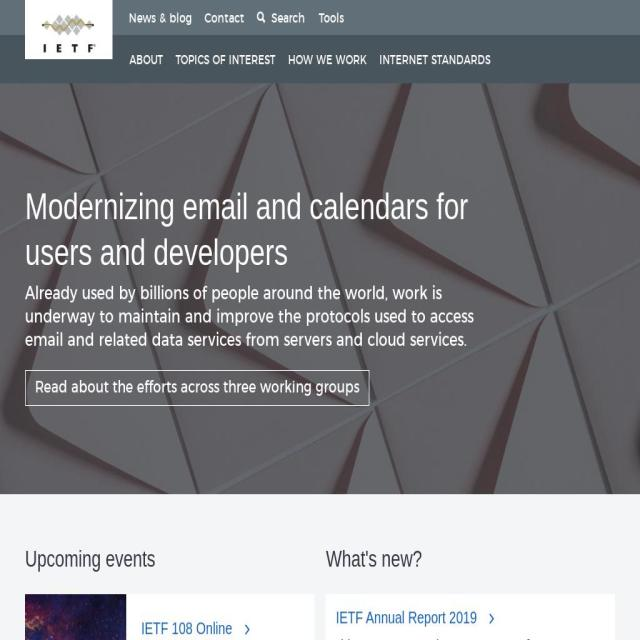button: (25, 370, 369, 406), (129, 8, 192, 30), (257, 8, 305, 32), (204, 8, 244, 30), (319, 8, 344, 30)
heading: (25, 183, 475, 275), (25, 548, 314, 572), (326, 548, 615, 572), (336, 608, 478, 627), (140, 619, 232, 638)
image: (25, 594, 126, 640), (39, 52, 100, 66)
link: (380, 54, 490, 67), (176, 54, 276, 67), (288, 54, 367, 67), (129, 54, 163, 67)
text: (25, 282, 475, 352), (336, 636, 605, 640), (271, 8, 305, 30)
